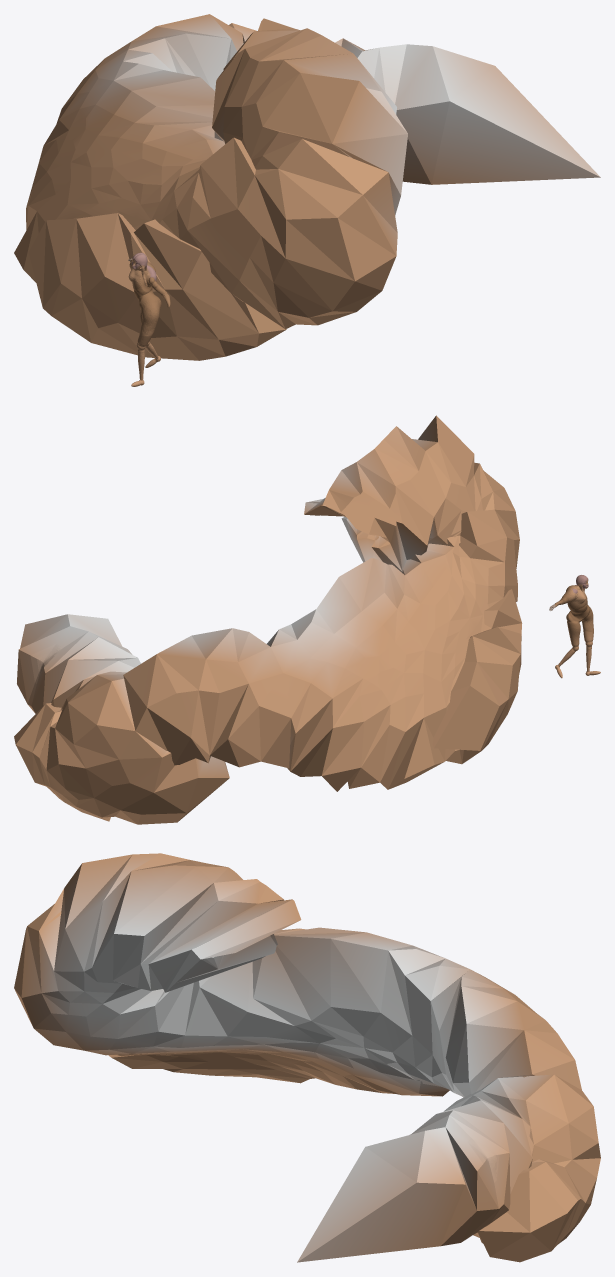
3 views of the same model, one above another, from view 1: azimuth 30°, elevation 25°; view 2: azimuth 150°, elevation 25°; view 3: azimuth 270°, elevation 25° (orthographic). The views are drawn at different scales.
Bounding box in the file's own units: 14.37 × 8.67 × 14.22.
